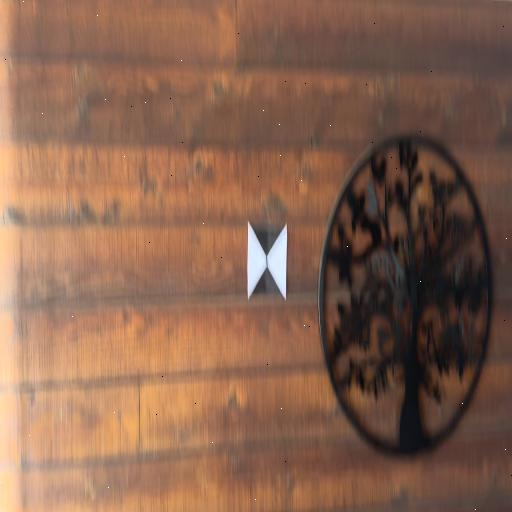target: (248, 227, 286, 297)
